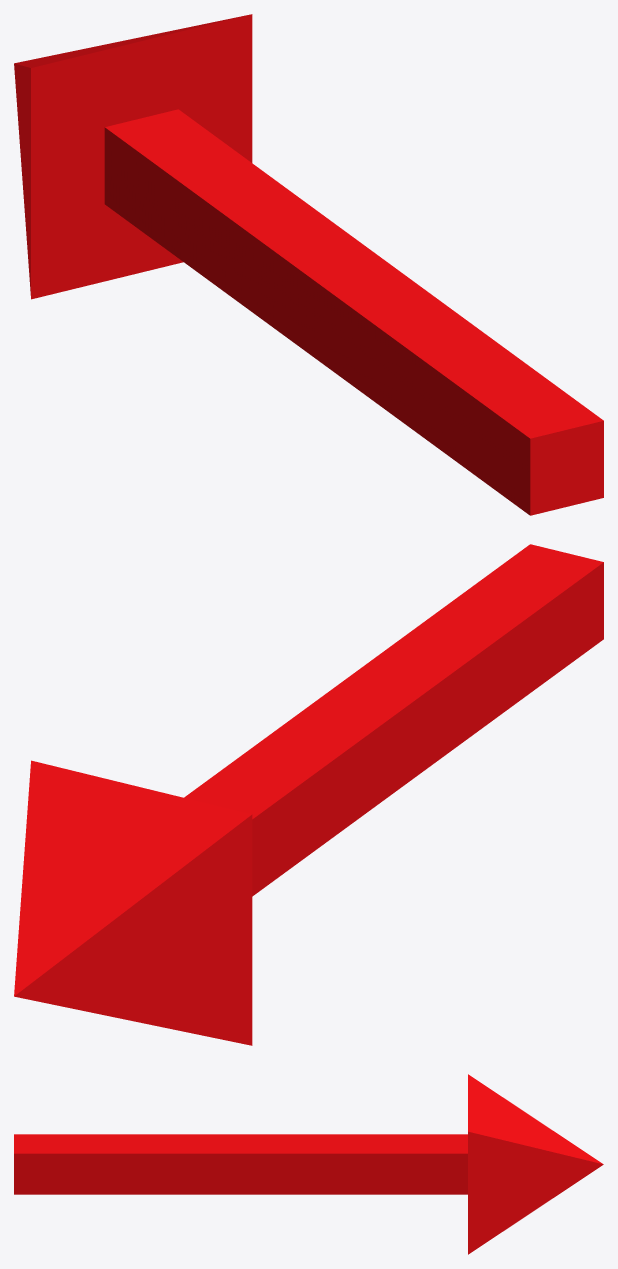
Rendered from ArrowStraight.glb.
The picture shows the model from 3 angles, top to bottom: view 1: azimuth 30°, elevation 25°; view 2: azimuth 150°, elevation 25°; view 3: azimuth 270°, elevation 25°; orthographic projection. The views are drawn at different scales.
Parts seen in each view (by area): view 1: Cube; view 2: Cube; view 3: Cube.
Part boxes in pixels (bbox=[...]): Cube: bbox=[14, 14, 603, 515]; Cube: bbox=[14, 544, 603, 1045]; Cube: bbox=[14, 1074, 603, 1254].
Size of the model in its own units: 1.2 by 1.2 by 5.2.
